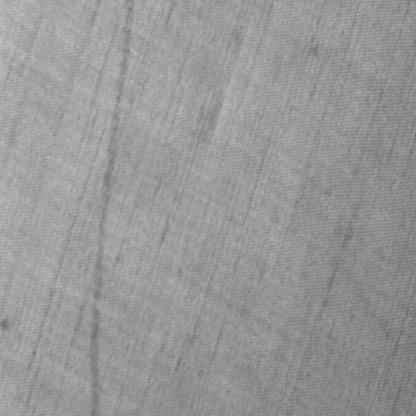oil spot: (88, 0, 137, 415)
